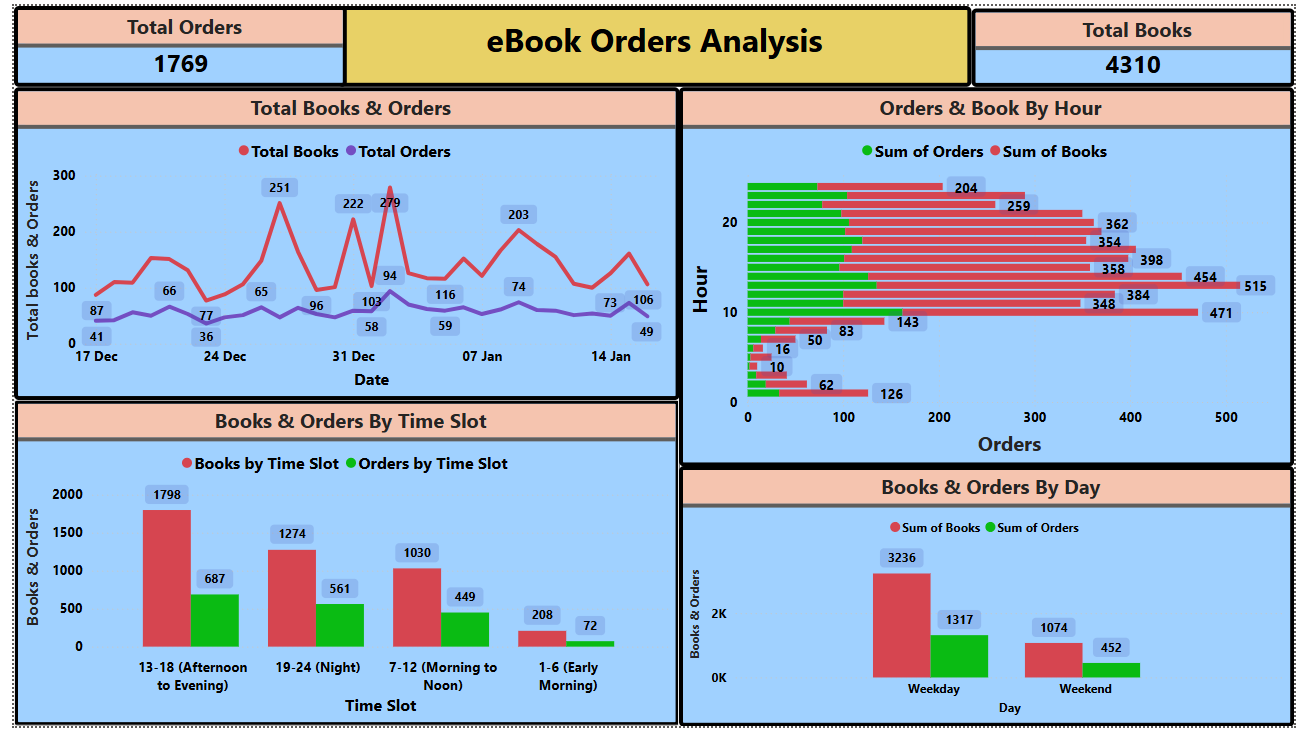

The dashboard page shown, as its layout file describes it:
{"tool":"powerbi","page":{"name":"Page 2","canvas":[1280,720],"ordinal":1},"visuals":[{"type":"clusteredColumnChart","title":"Books & Orders By Time Slot","fields":{"Category":["Sorted by Date.Time Slot"],"Y":["Sorted by Date.Books by Time Slot","Sorted by Date.Orders by Time Slot"]},"box":[0,393.8,665.2,326.5],"z":0},{"type":"textbox","box":[324.3,0,633.3,80.7],"z":2000},{"type":"clusteredColumnChart","title":"Books & Orders By Day","fields":{"Category":["Sorted by Date.Day Type"],"Y":["Sum(Sorted by Date.Books)","Sum(Sorted by Date.Orders)"]},"box":[665.2,459.8,615.1,260.5],"z":3000},{"type":"lineChart","title":"Total Books & Orders","fields":{"Category":["Date Table.Date"],"Y":["Sorted by Date.Total Books","Sorted by Date.Total Orders"]},"box":[0,80.7,665.2,313],"z":4000},{"type":"card","title":"Total Orders","fields":{"Values":["Sorted by Date.Total Orders"]},"box":[0,0,332.6,80.7],"z":5000},{"type":"card","title":"Total Books","fields":{"Values":["Sorted by Date.Total Books"]},"box":[957.5,2.4,322.8,78.3],"z":6000},{"type":"barChart","title":"Orders & Book By Hour","fields":{"Category":["Sorted by Date.Hour"],"Y":["Sum(Sorted by Date.Orders)","Sum(Sorted by Date.Books)"]},"box":[665.2,80.7,615.1,379.1],"z":7000}]}

Visuals, with their boxes in screenshot pixels (x1, y1, x2, y2), scaled from the page's 1280x720 canvas onto the 1303x732 screenshot:
"Books & Orders By Time Slot" clusteredColumnChart: bbox(0, 400, 677, 731)
textbox: bbox(330, 0, 975, 82)
"Books & Orders By Day" clusteredColumnChart: bbox(677, 467, 1302, 731)
"Total Books & Orders" lineChart: bbox(0, 82, 677, 400)
"Total Orders" card: bbox(0, 0, 339, 82)
"Total Books" card: bbox(975, 2, 1302, 82)
"Orders & Book By Hour" barChart: bbox(677, 82, 1302, 467)
